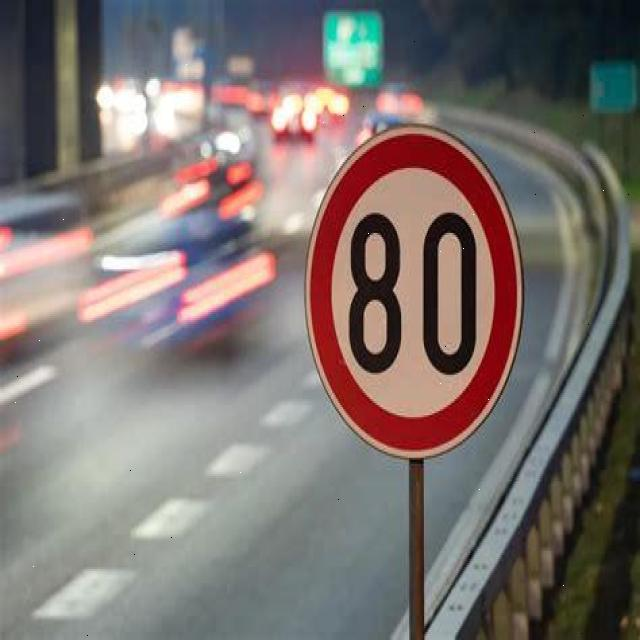speed limit 80: (304, 126, 524, 464)
